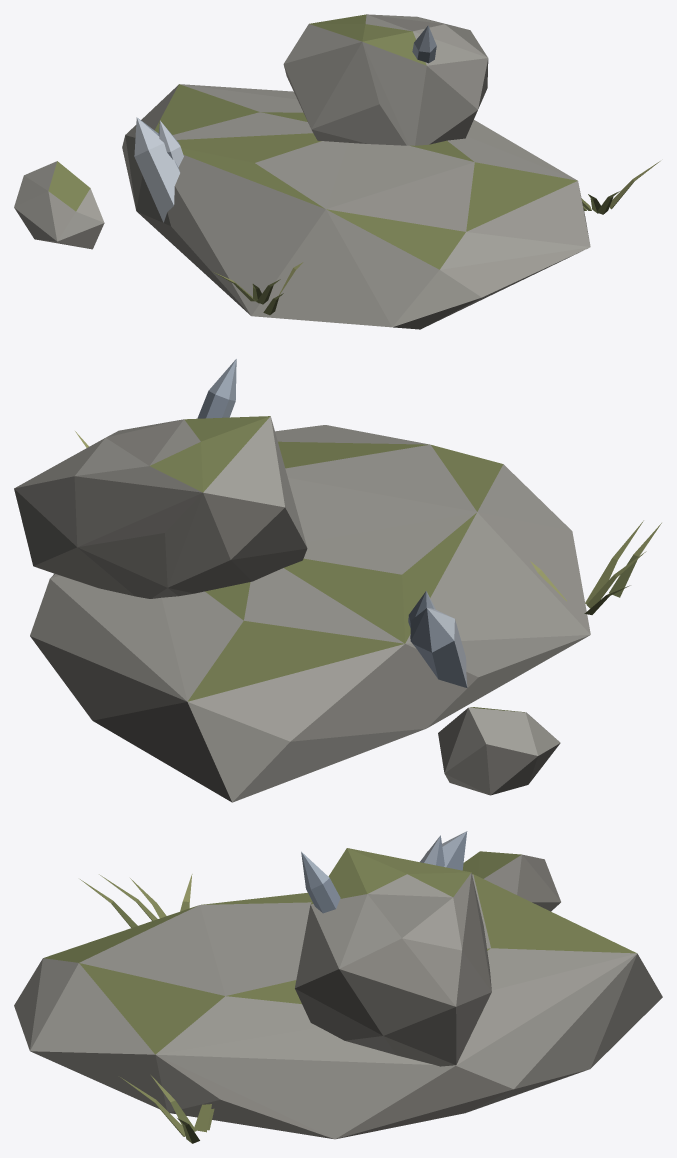
Rendered from rock_temperate_1.glb.
3 renders of one model, top to bottom at view 1: azimuth 30°, elevation 25°; view 2: azimuth 150°, elevation 25°; view 3: azimuth 270°, elevation 25°, orthographic. The views are drawn at different scales.
Parts seen in each view (by area): view 1: Body; view 2: Body; view 3: Body.
Boxes of the visible parts, x1,y1,x2,y2 form: Body: (14, 14, 660, 329); Body: (14, 359, 661, 802); Body: (14, 831, 662, 1143).
Size of the model in its own units: 4.09 by 1.53 by 3.88.
